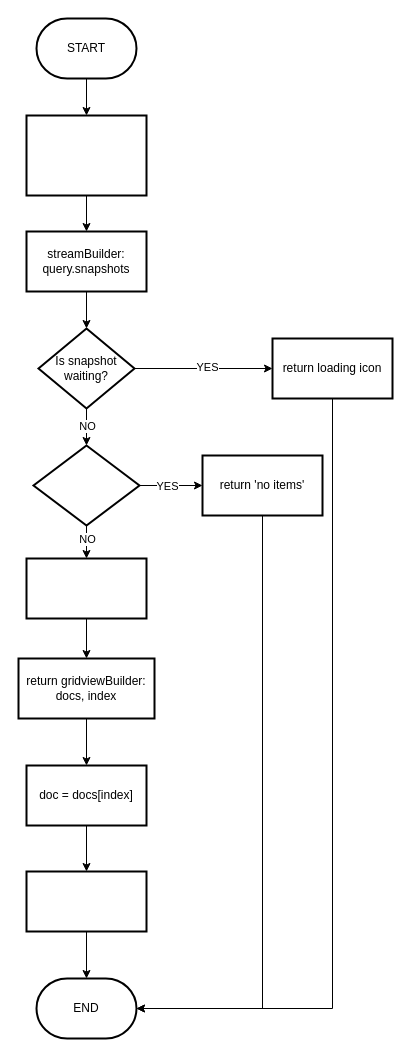
Image size: 410x1056. Some labels were removed from this diagram. The box of each missing label's shape, as (x1, y1, x2, y2) in pixels:
docs = snapshot.data.docs: (25, 557, 147, 619)
Is snapshot empty?: (32, 444, 140, 526)
query = FirebaseFirestore( collection 'items' where category = selectedCategory: (25, 114, 147, 196)
return doc info: (25, 870, 147, 932)
